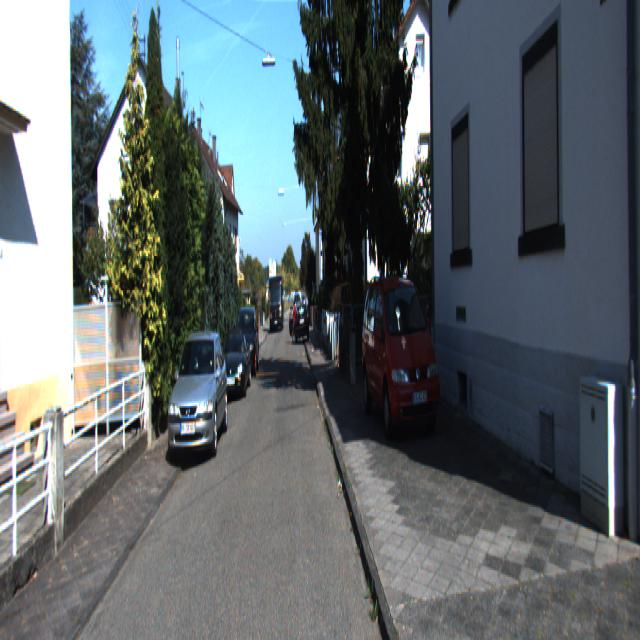Car: (360, 265, 441, 448), (166, 325, 228, 470), (218, 324, 250, 400), (233, 302, 259, 376)
